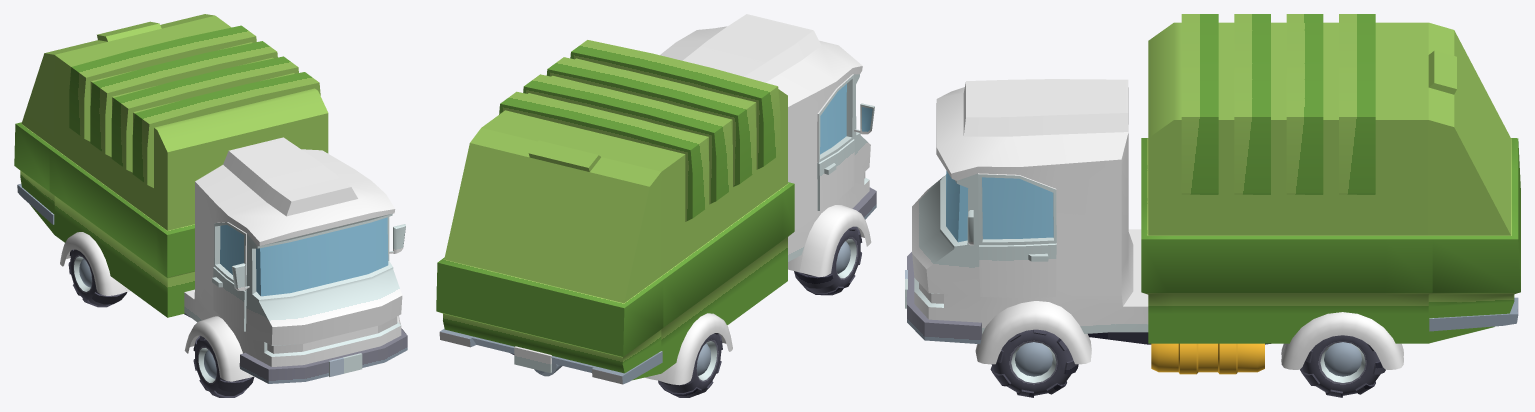
The model's file is camion_rcpBase.fbx.
The picture shows the model from 3 angles, left to right: view 1: azimuth 30°, elevation 25°; view 2: azimuth 150°, elevation 25°; view 3: azimuth 270°, elevation 25°; orthographic projection. The views are drawn at different scales.
Visible parts, largest first — view 1: camion_bsr.006, camion_bsr.012, camion_bsr.009, camion_bsr.008; view 2: camion_bsr.006, camion_bsr.012, camion_bsr.009, camion_bsr.008; view 3: camion_bsr.006, camion_bsr.012, camion_bsr.010, camion_bsr.011, camion_rcpBase.
Part boxes in pixels (x1,y1,x2,y2): camion_bsr.006: (14,14,328,317); camion_bsr.012: (184,137,407,383); camion_bsr.009: (193,335,254,397); camion_bsr.008: (68,249,127,307); camion_bsr.006: (436,40,794,385); camion_bsr.012: (660,14,876,276); camion_bsr.009: (794,226,862,295); camion_bsr.008: (658,333,722,397); camion_bsr.006: (1141,14,1520,374); camion_bsr.012: (905,79,1148,364); camion_bsr.010: (990,329,1078,397); camion_bsr.011: (1300,335,1385,397); camion_rcpBase: (1088,332,1270,344).
Bounding box in the file's own units: 5.2 × 6.51 × 12.53.
